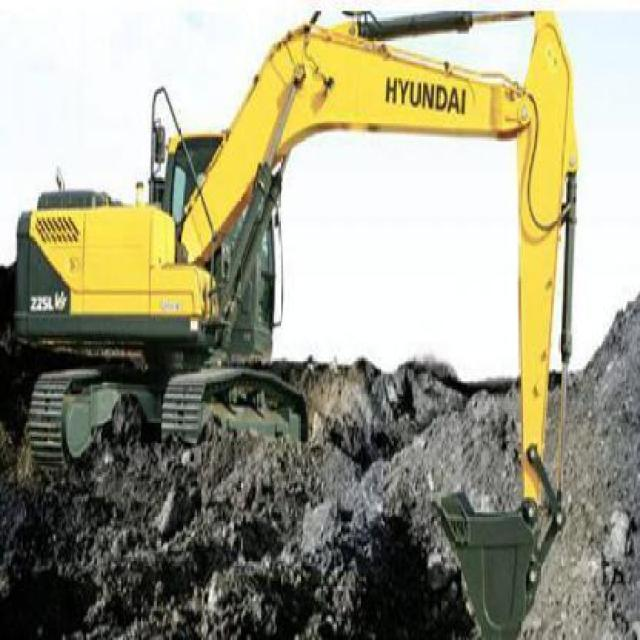excavator: (7, 2, 582, 638)
